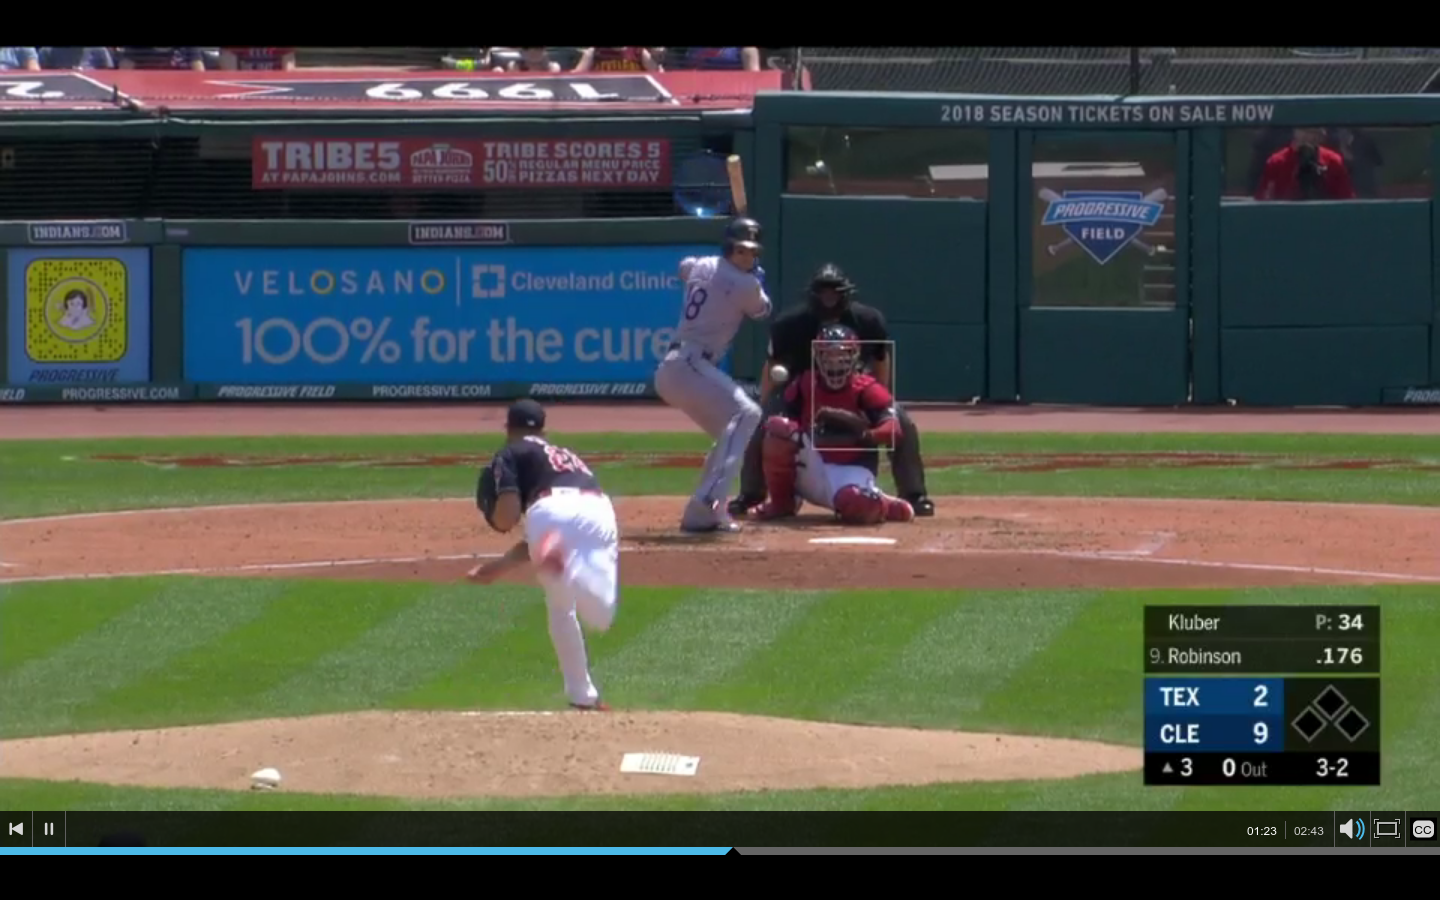baseball: (764, 360, 795, 385)
baseball bat: (724, 151, 756, 220)
baseball player: (458, 394, 627, 722), (653, 225, 779, 543), (750, 322, 918, 531)
referee: (736, 262, 935, 520)
